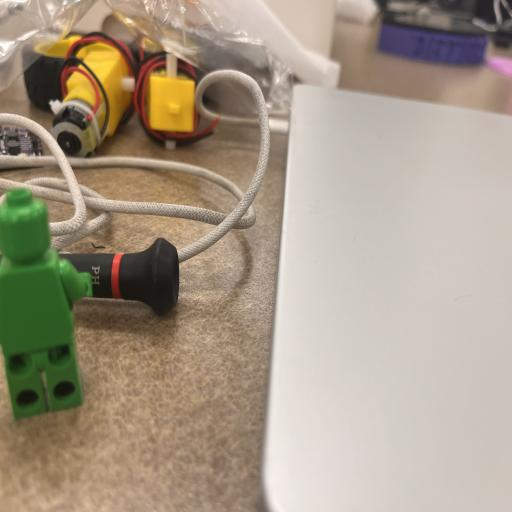Lego-Minifig: (0, 188, 92, 418)
